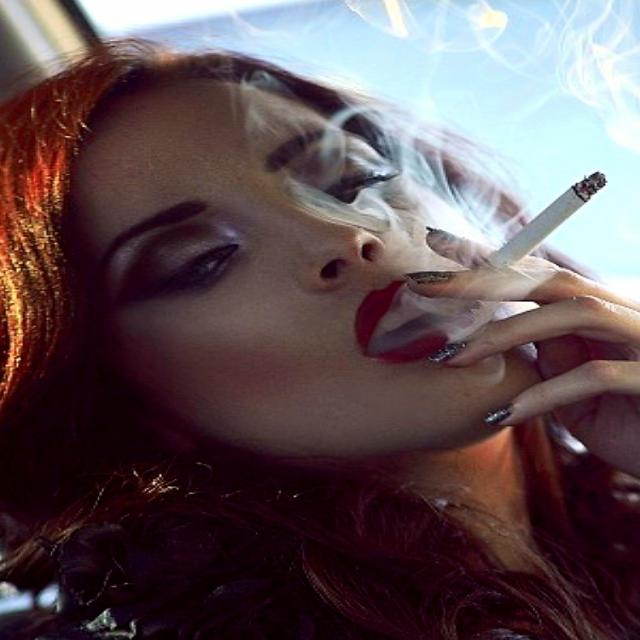cigarette: (464, 167, 620, 283)
